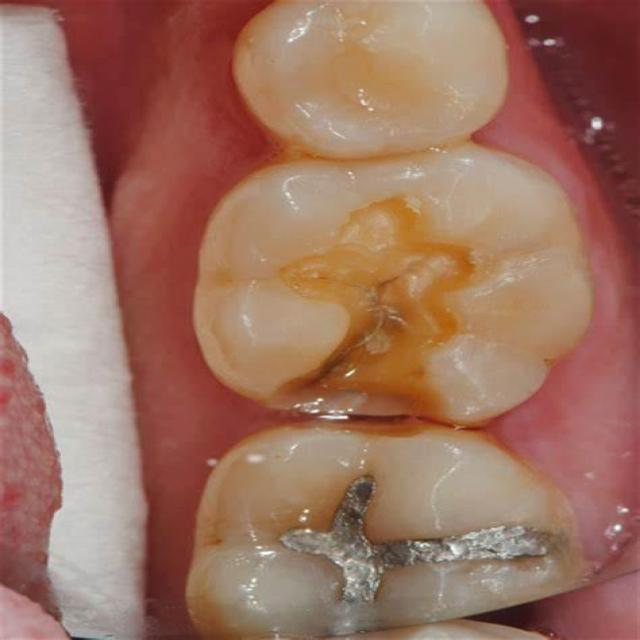Caries: (304, 355, 346, 387)
Cavity: (269, 196, 502, 428)
Tooth: (192, 142, 595, 429), (188, 425, 587, 639), (232, 0, 510, 158)
